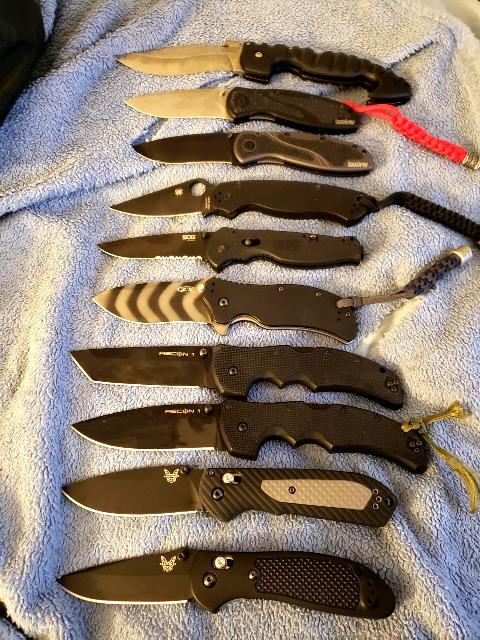pocket-knife: (72, 394, 436, 474), (54, 541, 402, 623), (54, 460, 398, 532), (67, 340, 409, 410), (110, 37, 418, 109), (88, 272, 366, 344), (103, 175, 385, 231), (122, 82, 364, 136), (93, 227, 369, 271), (132, 131, 376, 175)
